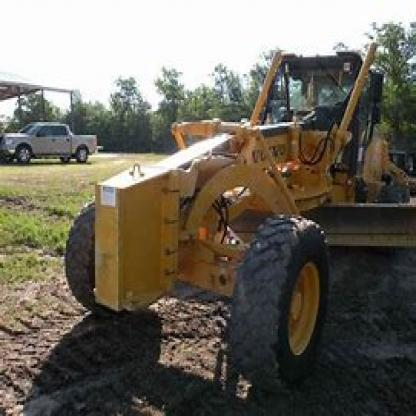bull_dozer/loader/grader: (66, 44, 413, 394)
